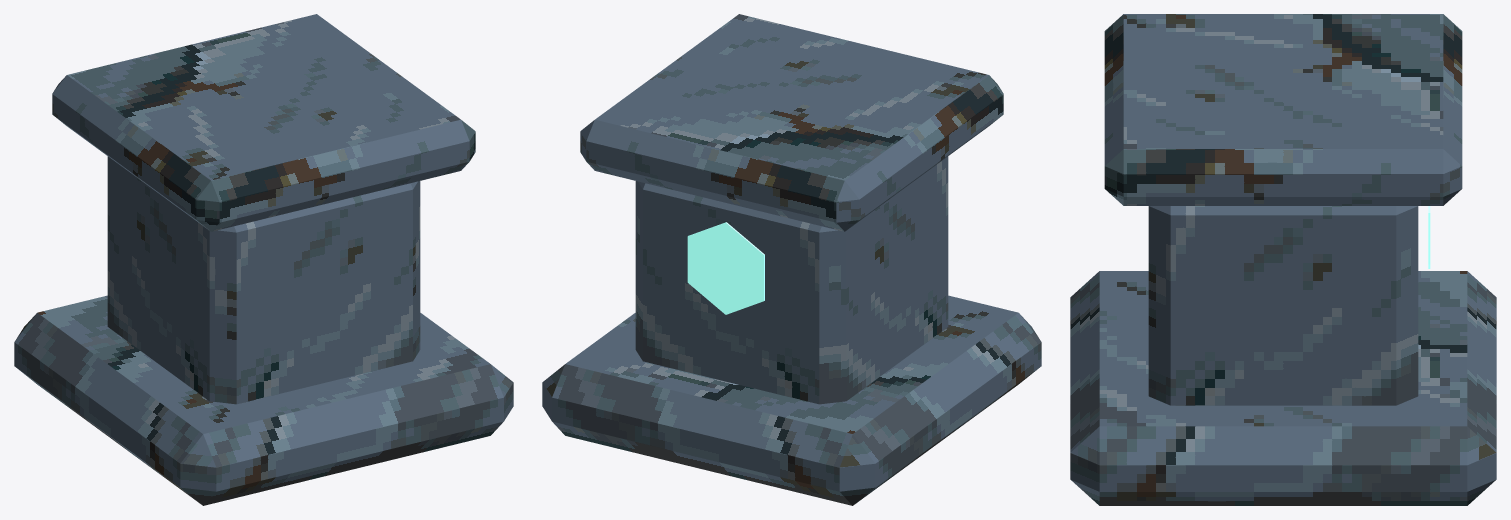
The model's file is totem_dominio.glb.
The picture shows the model from 3 angles, left to right: view 1: azimuth 30°, elevation 25°; view 2: azimuth 150°, elevation 25°; view 3: azimuth 270°, elevation 25°; orthographic projection. The views are drawn at different scales.
Parts seen in each view (by area): view 1: pedreira_totem_dominio; view 2: pedreira_totem_dominio; view 3: pedreira_totem_dominio.
Part boxes in pixels (left/top/right/bottom): pedreira_totem_dominio: left=14, top=14, right=513, bottom=505; pedreira_totem_dominio: left=542, top=14, right=1041, bottom=505; pedreira_totem_dominio: left=1070, top=14, right=1496, bottom=505.
Bounding box in the file's own units: 0.68 × 0.61 × 0.68.
2 materials, 1 textured.
